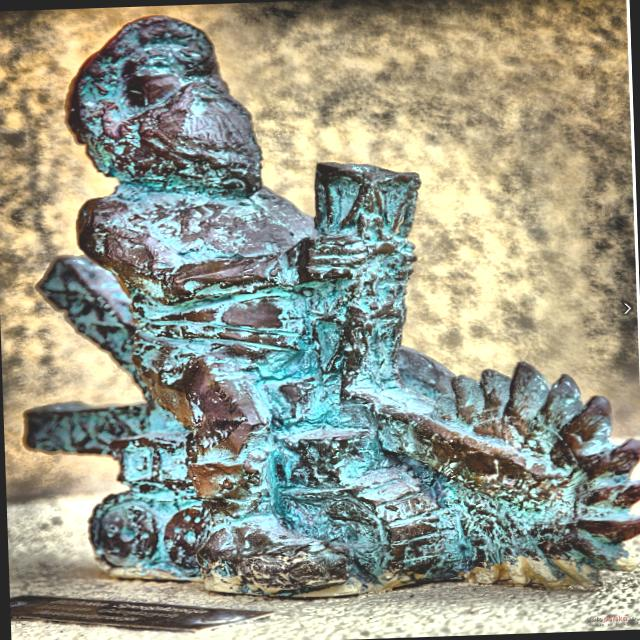Automatek: (26, 15, 640, 596)
